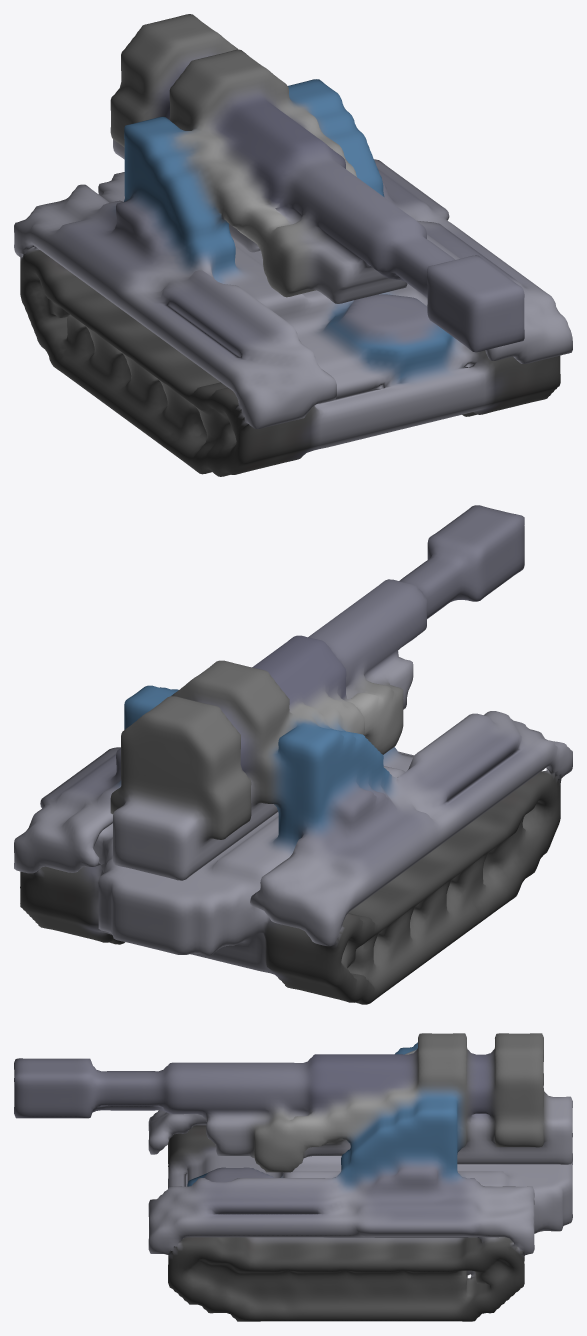
Rendered from tnkd.glb.
3 renders of one model, top to bottom at view 1: azimuth 30°, elevation 25°; view 2: azimuth 150°, elevation 25°; view 3: azimuth 270°, elevation 25°, orthographic. The views are drawn at different scales.
Visible parts, largest first — view 1: tnkd; view 2: tnkd; view 3: tnkd.
Boxes of the visible parts, <box> form: tnkd: <box>14,14,572,476</box>; tnkd: <box>14,505,572,1004</box>; tnkd: <box>14,1033,572,1321</box>.
Size of the model in its own units: 2.6 by 2.1 by 4.82.
